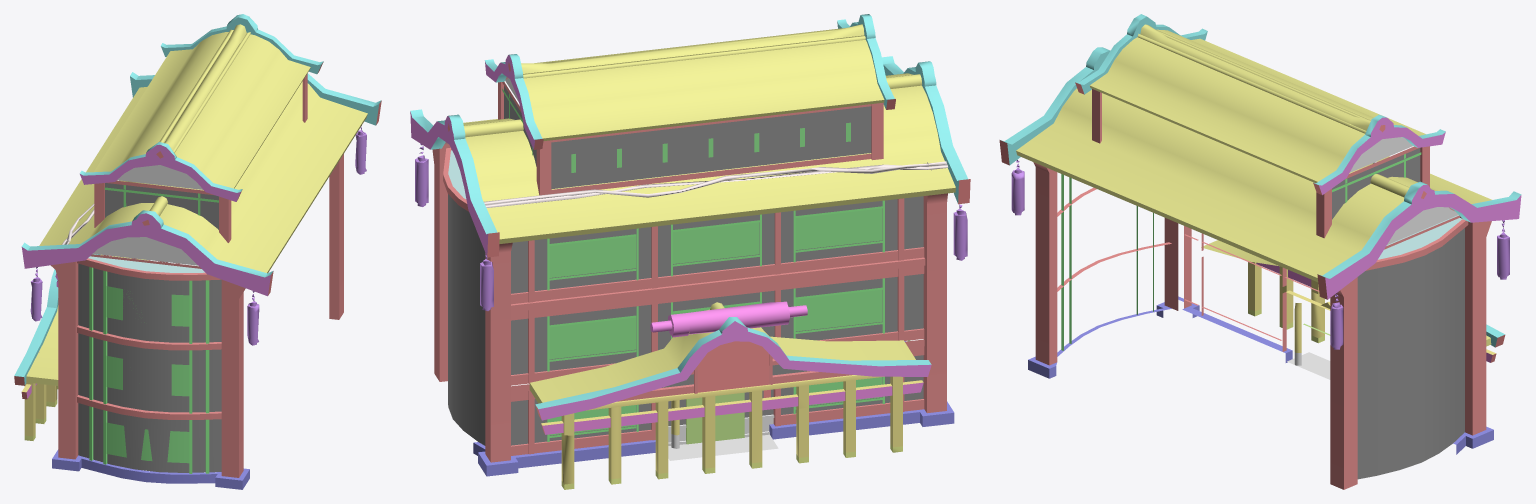
Rendered from SM_ENV_LKNVLD_VRArena_Structure_B_Lod3.gltf.
The picture shows the model from 3 angles, left to right: view 1: azimuth 30°, elevation 25°; view 2: azimuth 150°, elevation 25°; view 3: azimuth 270°, elevation 25°; orthographic projection. The views are drawn at different scales.
Parts seen in each view (by area): view 1: SM_ENV_LKNVLD_VRArena_Structure_B_Lod3; view 2: SM_ENV_LKNVLD_VRArena_Structure_B_Lod3; view 3: SM_ENV_LKNVLD_VRArena_Structure_B_Lod3.
Part boxes in pixels (x1,y1,x2,y2): SM_ENV_LKNVLD_VRArena_Structure_B_Lod3: (14,14,381,489); SM_ENV_LKNVLD_VRArena_Structure_B_Lod3: (410,14,970,489); SM_ENV_LKNVLD_VRArena_Structure_B_Lod3: (999,14,1521,489).
Size of the model in its own units: 37.86 by 27.12 by 37.86.
